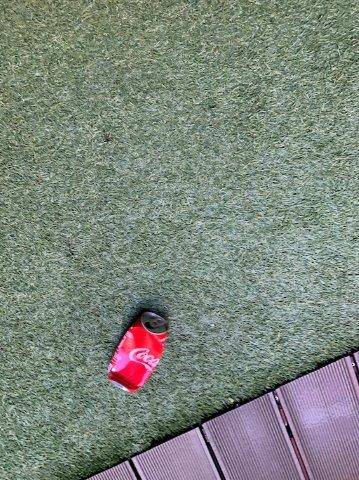kaleng: (109, 313, 165, 391)
